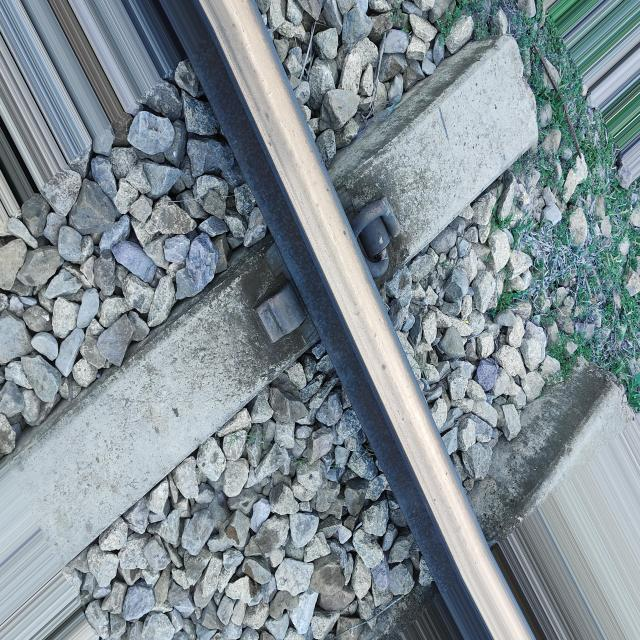Good Fasteners: (351, 198, 399, 279)
Missing Fastener: (242, 280, 320, 350)
